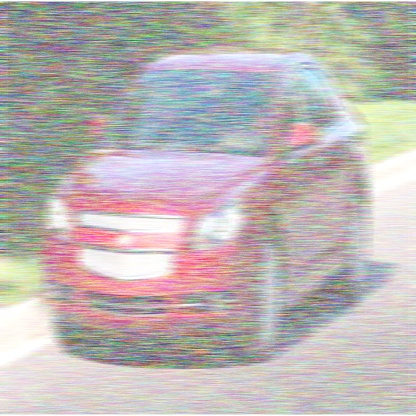Vehicle: (41, 48, 372, 365)
